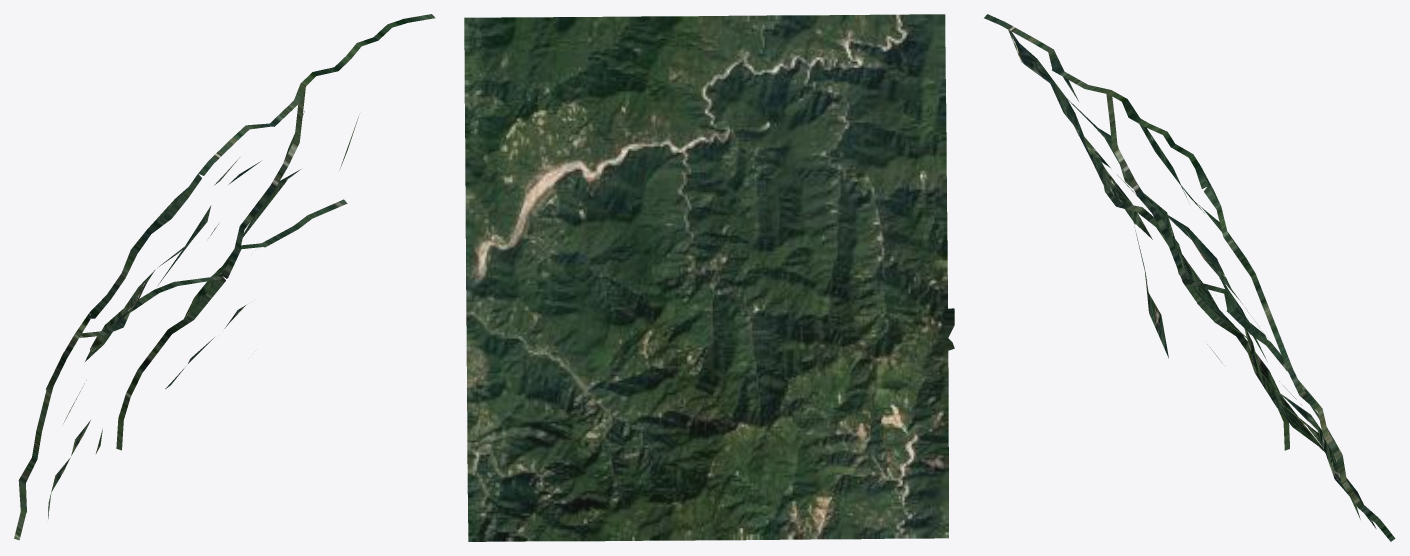
The picture shows the model from 3 angles, left to right: view 1: azimuth 30°, elevation 25°; view 2: azimuth 150°, elevation 25°; view 3: azimuth 270°, elevation 25°; orthographic projection. The views are drawn at different scales.
Bounding box in the file's own units: 20078 × 18220 × 16411.
Materials: 1 (1 with a texture image).
